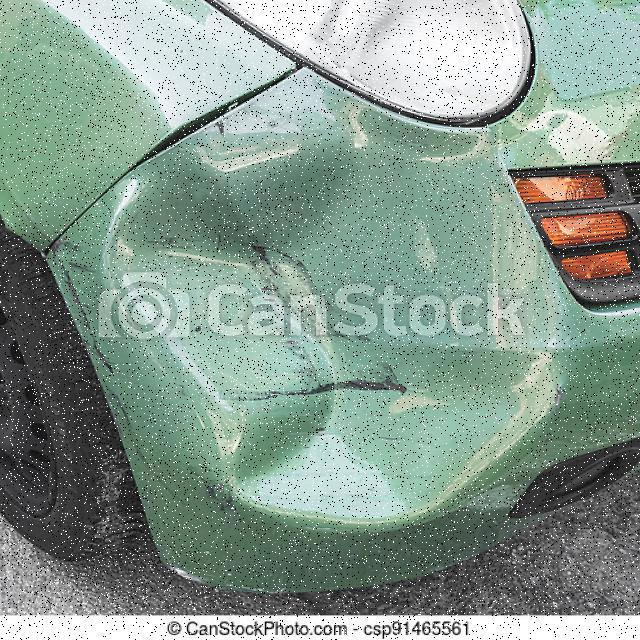front-bumper-dent: (61, 71, 638, 600)
